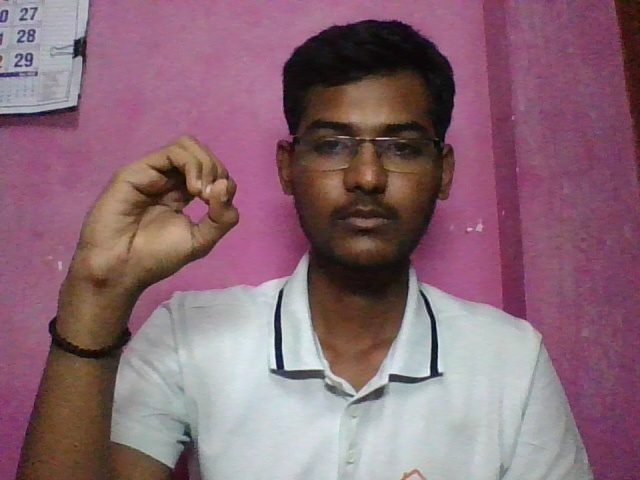Hello: (66, 128, 247, 291)
